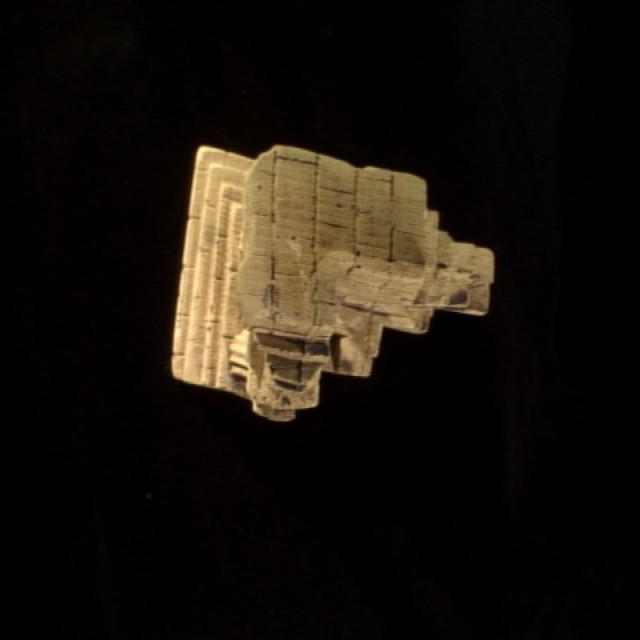Instance-Segmentation: (171, 145, 493, 419)
